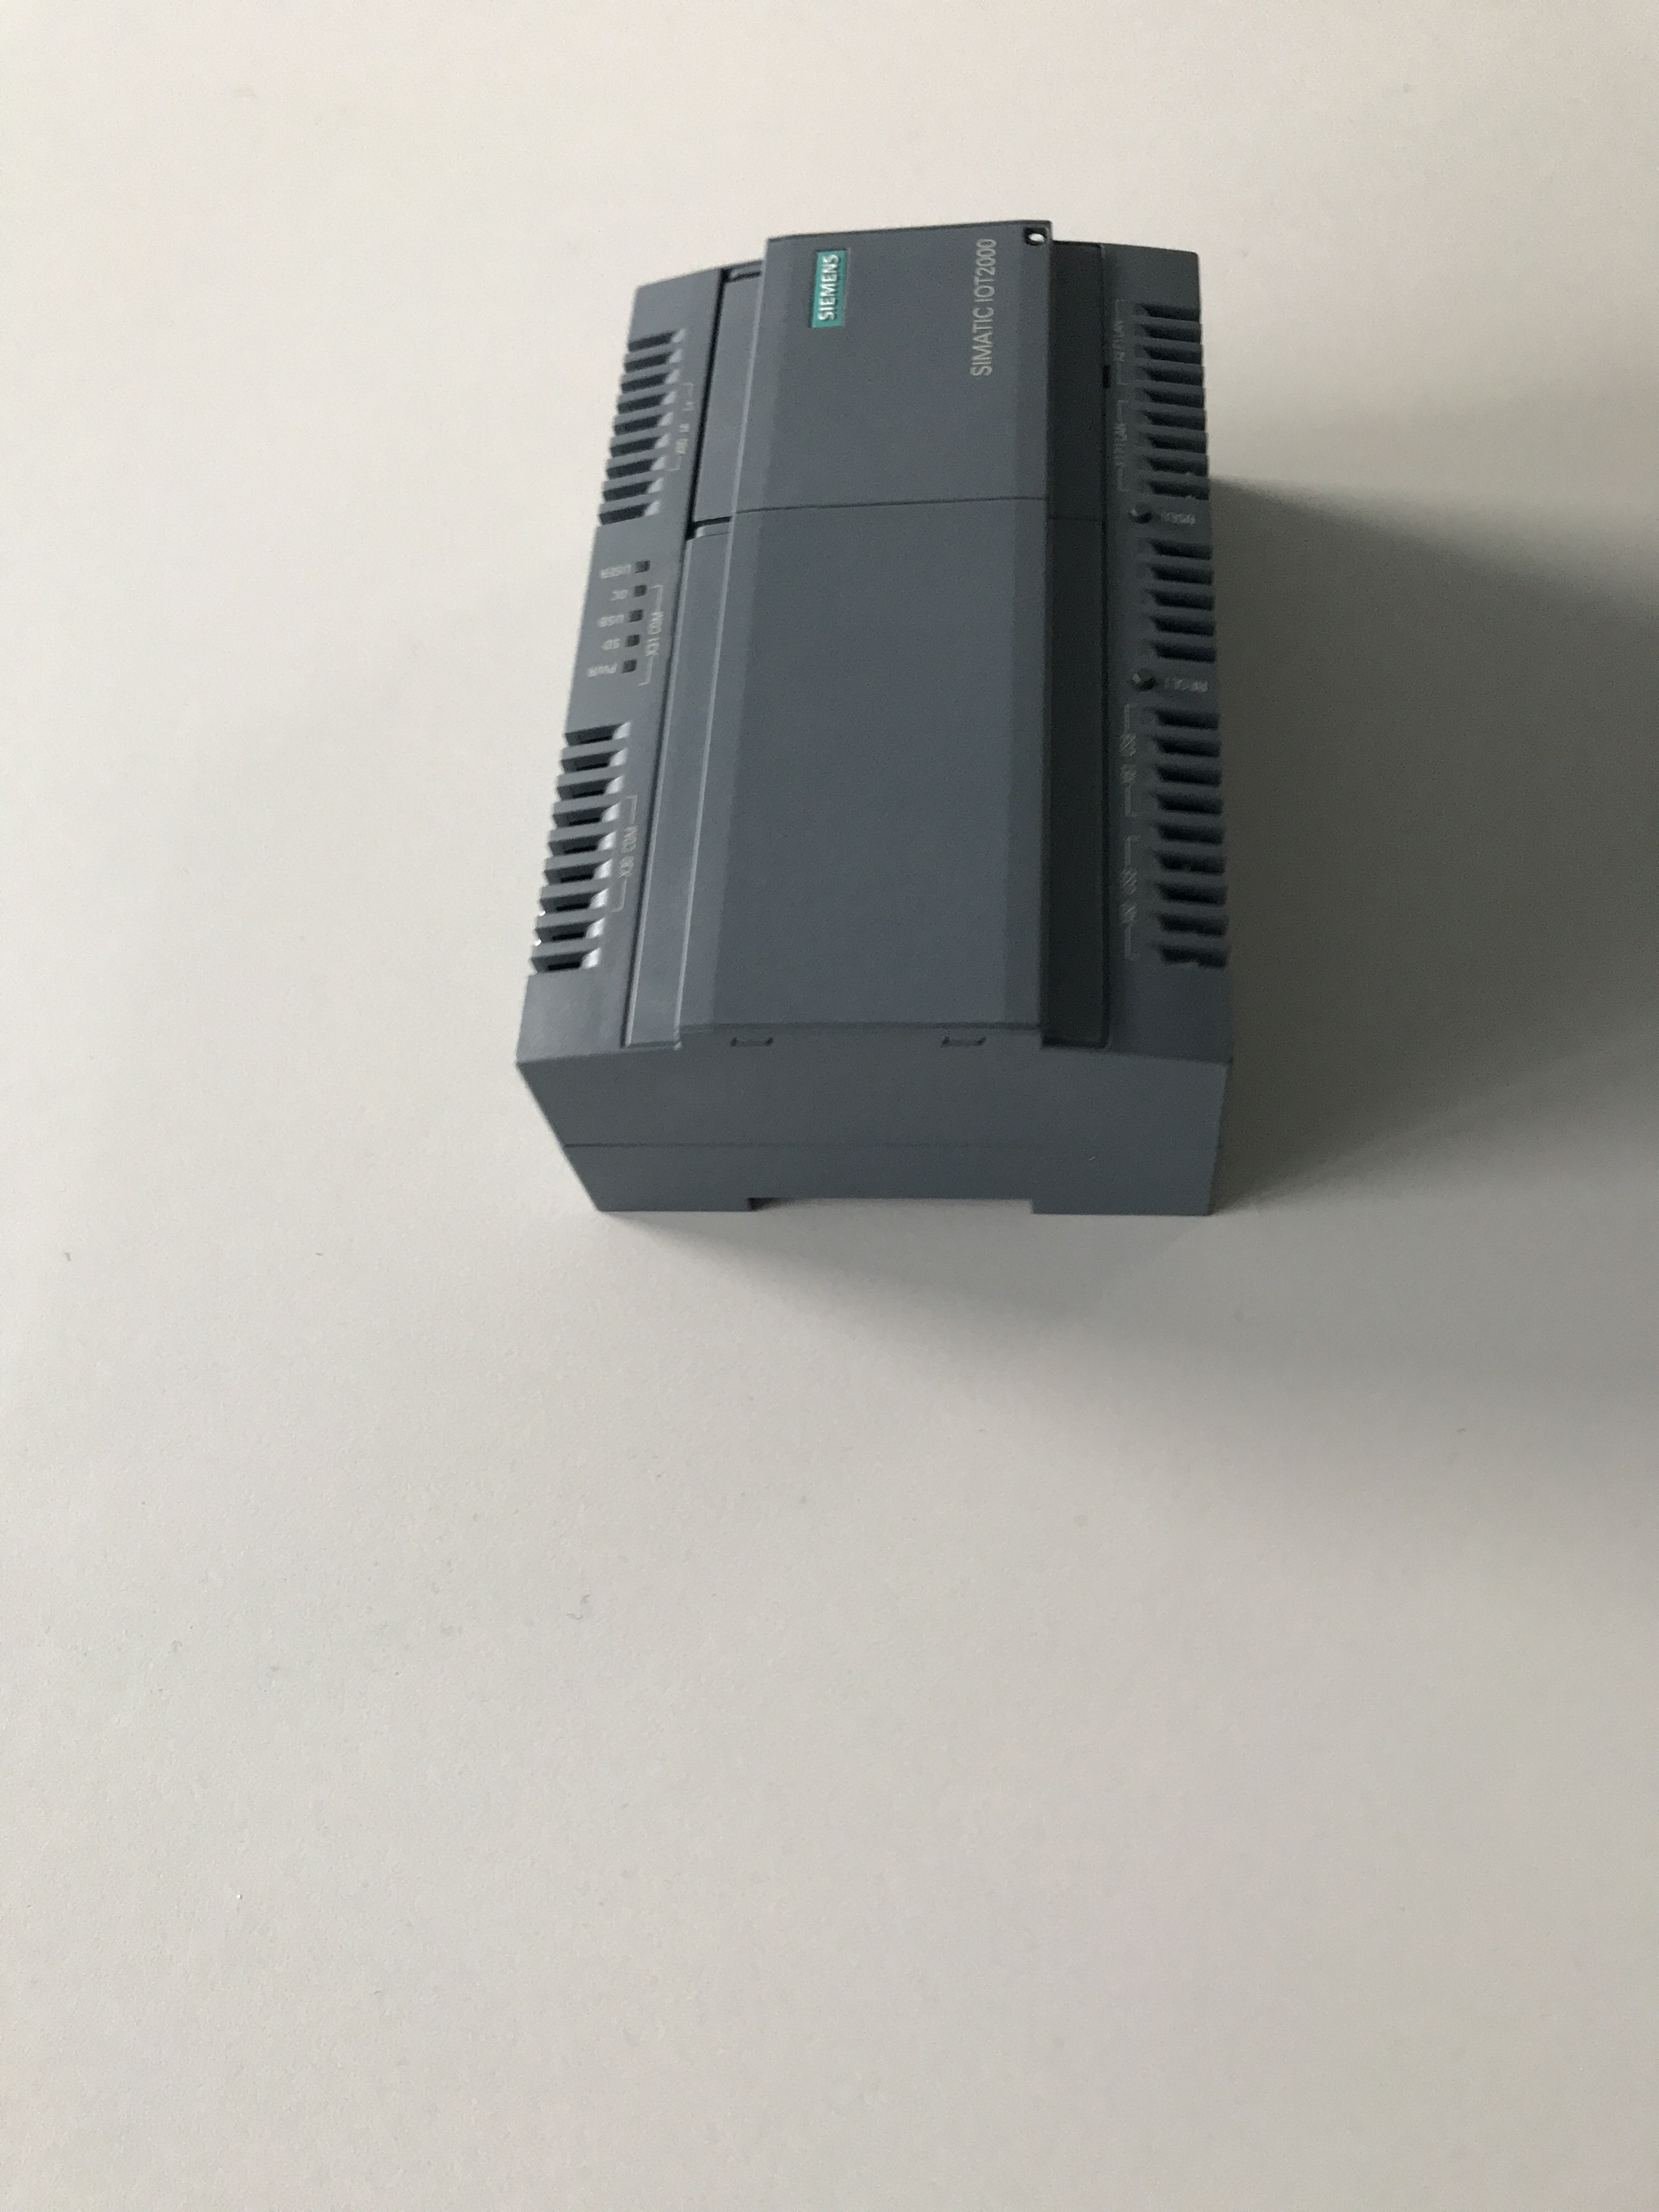device: (514, 218, 1234, 1219)
